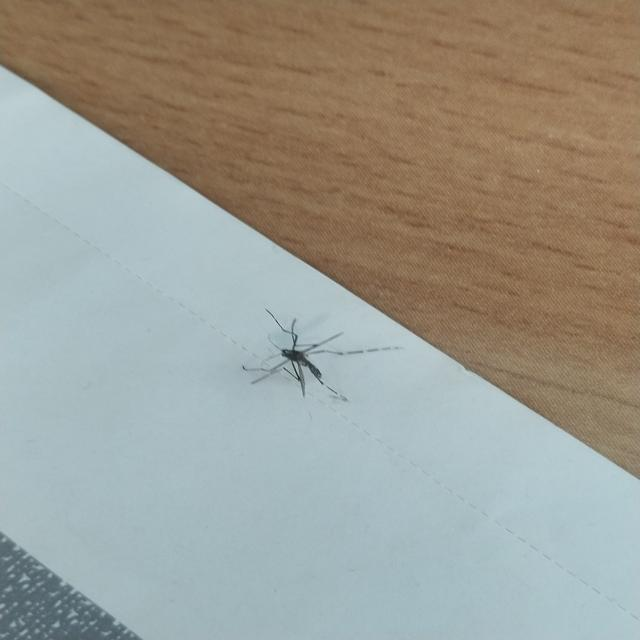albopictus: (230, 302, 396, 404)
